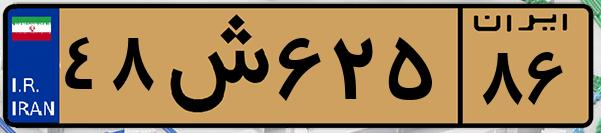2: (330, 28, 385, 110)
4: (57, 26, 110, 100)
5: (385, 28, 445, 110)
6: (270, 28, 330, 110), (525, 38, 570, 115)
8: (475, 38, 525, 113), (110, 28, 158, 98)
ش: (158, 12, 270, 120)
